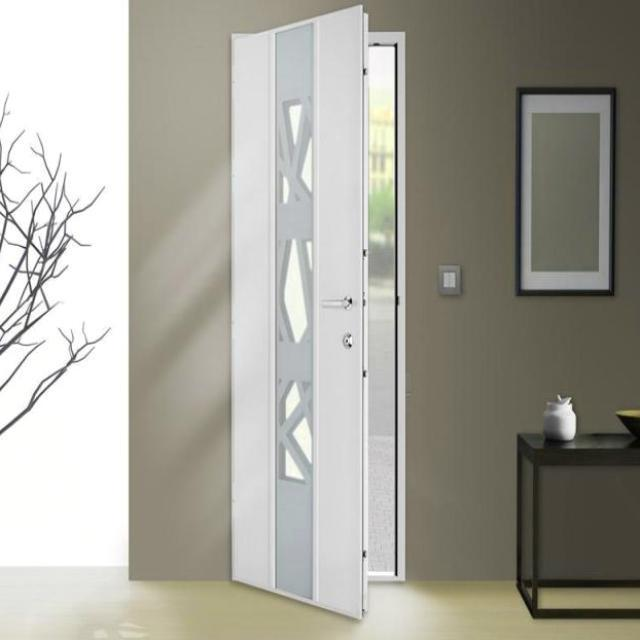door: (229, 2, 369, 620)
